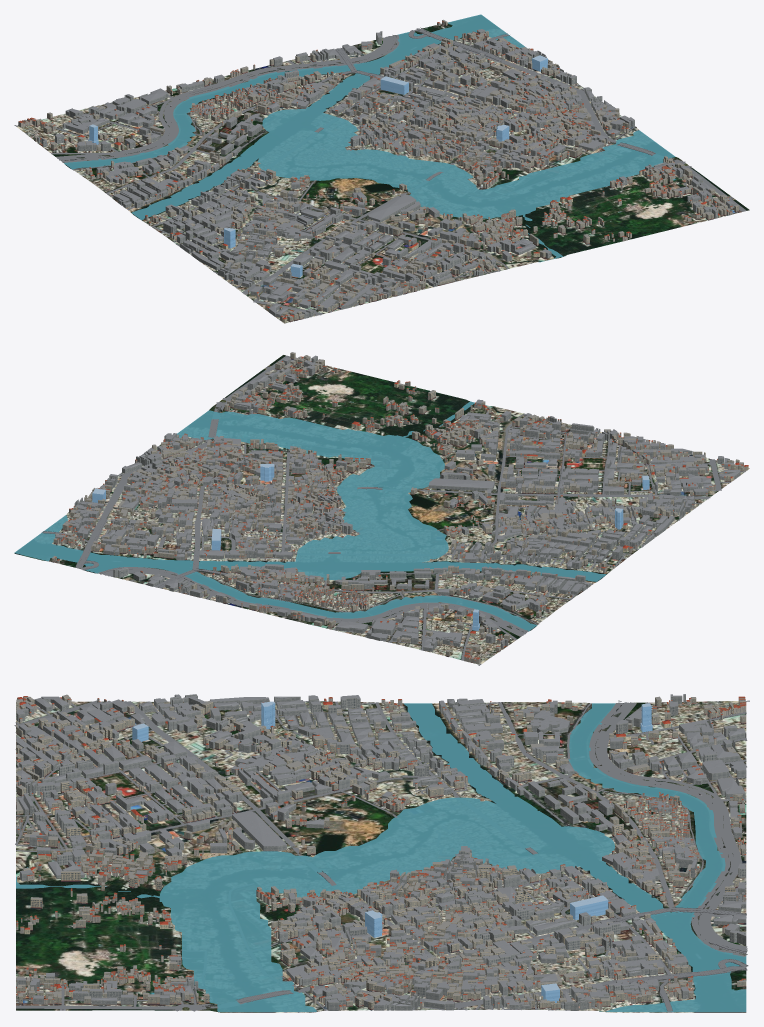
3 views of the same model, one above another, from view 1: azimuth 30°, elevation 25°; view 2: azimuth 150°, elevation 25°; view 3: azimuth 270°, elevation 25° (orthographic). The views are drawn at different scales.
Parts seen in each view (by area): view 1: NODE_MESH_07_APARTMENT_CONCRETE, NODE_MESH_01_TERRAIN, NODE_MESH_02_WATER, NODE_MESH_05_SHOPHOUSE, NODE_MESH_04_TUBE_HOUSE, NODE_MESH_03_ROAD_METRO, NODE_MESH_08_MODERN_TOWER, NODE_MESH_06_VILLA_COLONIAL; view 2: NODE_MESH_07_APARTMENT_CONCRETE, NODE_MESH_01_TERRAIN, NODE_MESH_02_WATER, NODE_MESH_05_SHOPHOUSE, NODE_MESH_03_ROAD_METRO, NODE_MESH_04_TUBE_HOUSE, NODE_MESH_08_MODERN_TOWER, NODE_MESH_06_VILLA_COLONIAL; view 3: NODE_MESH_07_APARTMENT_CONCRETE, NODE_MESH_01_TERRAIN, NODE_MESH_02_WATER, NODE_MESH_05_SHOPHOUSE, NODE_MESH_03_ROAD_METRO, NODE_MESH_04_TUBE_HOUSE, NODE_MESH_08_MODERN_TOWER, NODE_MESH_06_VILLA_COLONIAL.
Part boxes in pixels (box(x1,y1,x2,y2)): NODE_MESH_07_APARTMENT_CONCRETE: box(37, 29, 734, 318); NODE_MESH_01_TERRAIN: box(17, 23, 749, 323); NODE_MESH_02_WATER: box(64, 14, 675, 262); NODE_MESH_05_SHOPHOUSE: box(23, 19, 739, 322); NODE_MESH_04_TUBE_HOUSE: box(18, 21, 732, 320); NODE_MESH_03_ROAD_METRO: box(14, 27, 746, 320); NODE_MESH_08_MODERN_TOWER: box(88, 55, 547, 277); NODE_MESH_06_VILLA_COLONIAL: box(77, 135, 720, 322); NODE_MESH_07_APARTMENT_CONCRETE: box(55, 355, 740, 651); NODE_MESH_01_TERRAIN: box(14, 355, 749, 664); NODE_MESH_02_WATER: box(14, 401, 609, 631); NODE_MESH_05_SHOPHOUSE: box(51, 352, 743, 662); NODE_MESH_03_ROAD_METRO: box(41, 355, 745, 665); NODE_MESH_04_TUBE_HOUSE: box(55, 356, 746, 663); NODE_MESH_08_MODERN_TOWER: box(92, 464, 649, 630); NODE_MESH_06_VILLA_COLONIAL: box(258, 361, 748, 636); NODE_MESH_07_APARTMENT_CONCRETE: box(16, 694, 746, 1010); NODE_MESH_01_TERRAIN: box(16, 701, 746, 1012); NODE_MESH_02_WATER: box(16, 703, 746, 1011); NODE_MESH_05_SHOPHOUSE: box(16, 694, 746, 1010); NODE_MESH_03_ROAD_METRO: box(14, 700, 749, 1012); NODE_MESH_04_TUBE_HOUSE: box(16, 696, 746, 1010); NODE_MESH_08_MODERN_TOWER: box(132, 701, 652, 1002); NODE_MESH_06_VILLA_COLONIAL: box(16, 697, 670, 996).
Size of the model in its own units: 2014 by 79.42 by 2016.
8 materials, 6 textured.
